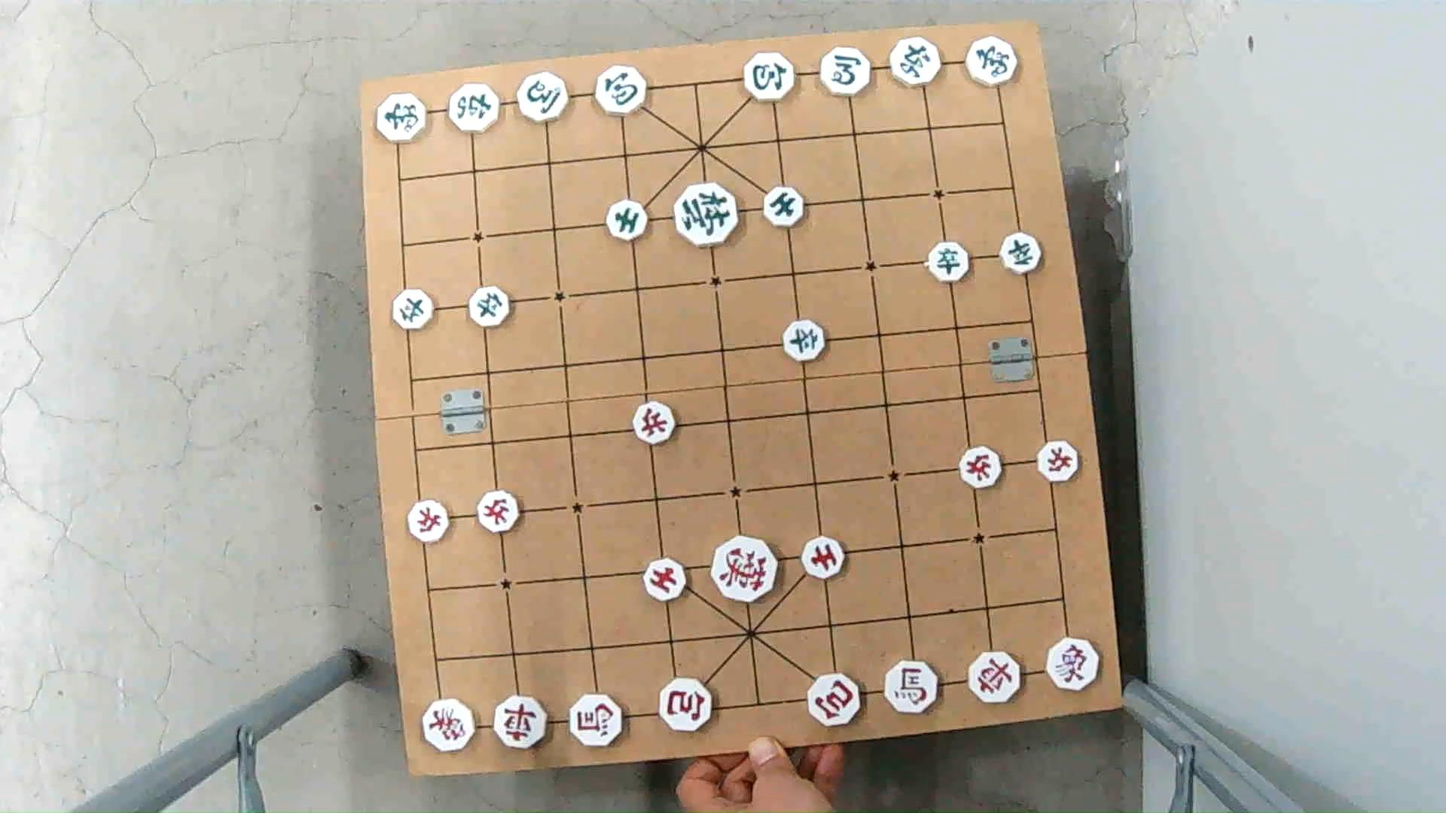cha_green: (447, 84, 505, 130), (889, 40, 944, 84)
cha_red: (490, 697, 551, 748), (966, 654, 1025, 702)
jol_green: (997, 232, 1045, 273), (782, 322, 831, 358), (466, 289, 513, 326), (927, 243, 975, 279), (391, 292, 437, 329)
jol_red: (629, 400, 679, 444), (472, 493, 521, 530), (956, 449, 1006, 485), (1033, 443, 1081, 480), (404, 504, 450, 542)
ma_green: (515, 74, 573, 118), (819, 50, 877, 93)
ma_red: (566, 694, 627, 744), (883, 662, 943, 710)
po_green: (597, 69, 649, 114), (743, 53, 796, 97)
po_red: (804, 674, 863, 723), (656, 682, 714, 729)
sa_green: (606, 204, 654, 241), (760, 189, 807, 224)
sa_red: (798, 537, 847, 579), (639, 561, 688, 601)
sang_green: (374, 96, 429, 143), (964, 36, 1018, 81)
sang_red: (1045, 638, 1105, 687), (419, 702, 479, 751)
wang_green: (674, 184, 742, 246)
wang_red: (712, 541, 782, 598)
